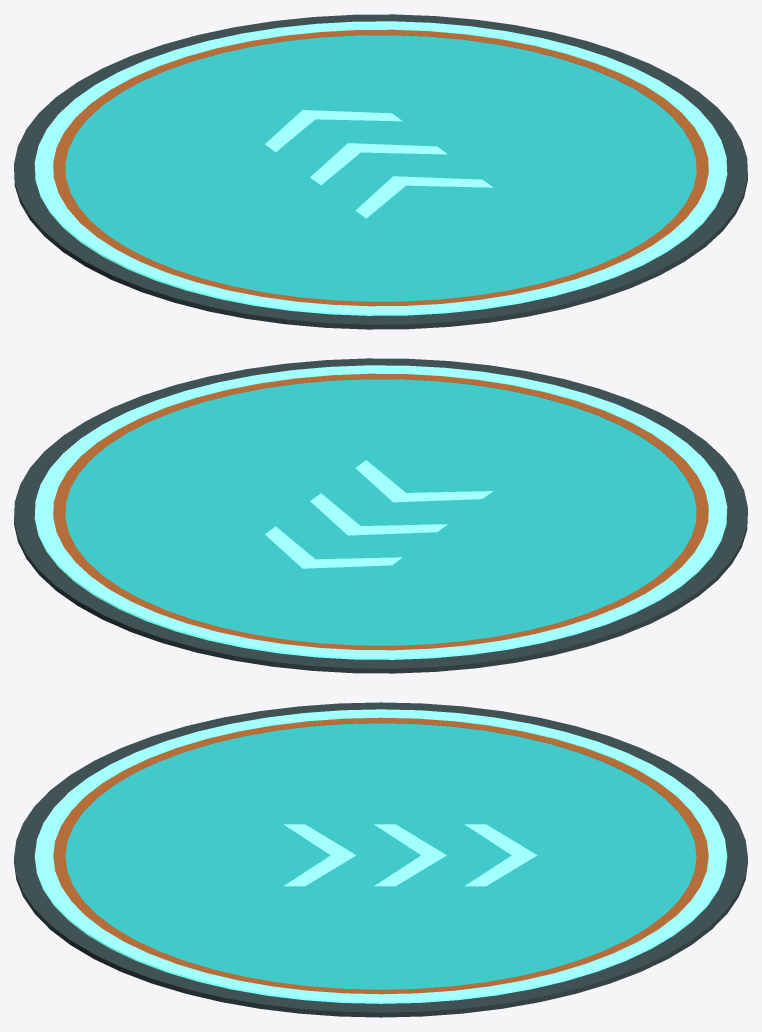
The model's file is w6d-movers-start-pad.glb.
3 views of the same model, one above another, from view 1: azimuth 30°, elevation 25°; view 2: azimuth 150°, elevation 25°; view 3: azimuth 270°, elevation 25° (orthographic).
Visible parts, largest first — view 1: Start pad · quiet center, Start pad · outer edging, Start pad · edge inlay, Start pad · inner surround, Direction chevron.001, Direction chevron, Direction chevron.002; view 2: Start pad · quiet center, Start pad · outer edging, Start pad · edge inlay, Start pad · inner surround, Direction chevron, Direction chevron.001, Direction chevron.002; view 3: Start pad · quiet center, Start pad · outer edging, Start pad · edge inlay, Start pad · inner surround, Direction chevron, Direction chevron.002, Direction chevron.001.
Boxes of the visible parts, <box> form: Start pad · quiet center: <box>65,35,696,301</box>; Start pad · outer edging: <box>14,14,747,329</box>; Start pad · edge inlay: <box>34,21,727,315</box>; Start pad · inner surround: <box>53,29,708,306</box>; Direction chevron.001: <box>310,143,447,185</box>; Direction chevron: <box>355,176,492,218</box>; Direction chevron.002: <box>265,110,402,152</box>; Start pad · quiet center: <box>65,379,696,645</box>; Start pad · outer edging: <box>14,358,747,673</box>; Start pad · edge inlay: <box>34,365,727,659</box>; Start pad · inner surround: <box>53,373,708,650</box>; Direction chevron: <box>355,460,492,502</box>; Direction chevron.001: <box>310,493,447,535</box>; Direction chevron.002: <box>265,526,402,568</box>; Start pad · quiet center: <box>65,723,696,989</box>; Start pad · outer edging: <box>14,702,747,1017</box>; Start pad · edge inlay: <box>34,709,727,1003</box>; Start pad · inner surround: <box>53,717,708,994</box>; Direction chevron: <box>283,824,356,886</box>; Direction chevron.002: <box>464,824,537,886</box>; Direction chevron.001: <box>374,824,446,886</box>.
Bounding box in the file's own units: 6 × 0.064 × 6.
